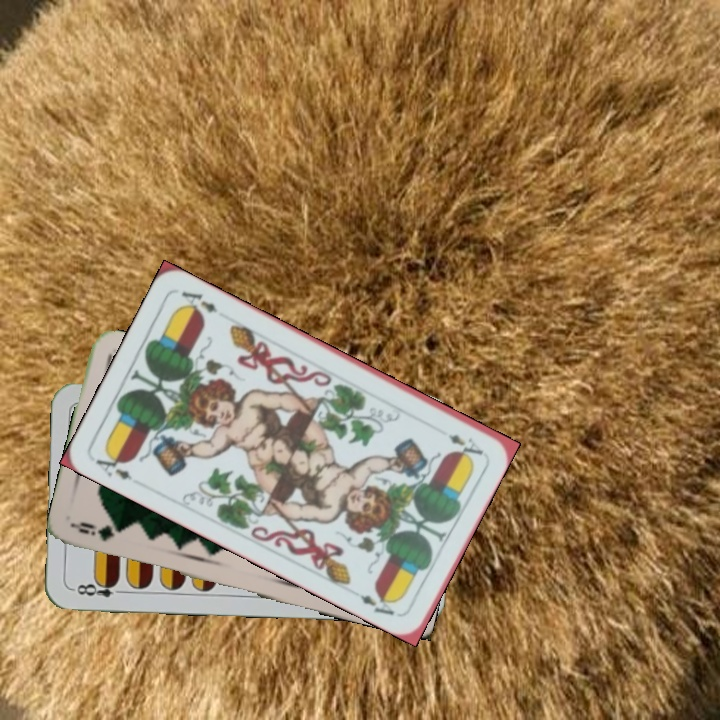E8: (69, 576, 128, 600)
EA: (91, 446, 135, 483), (443, 430, 486, 458)
G9: (71, 519, 117, 544)
